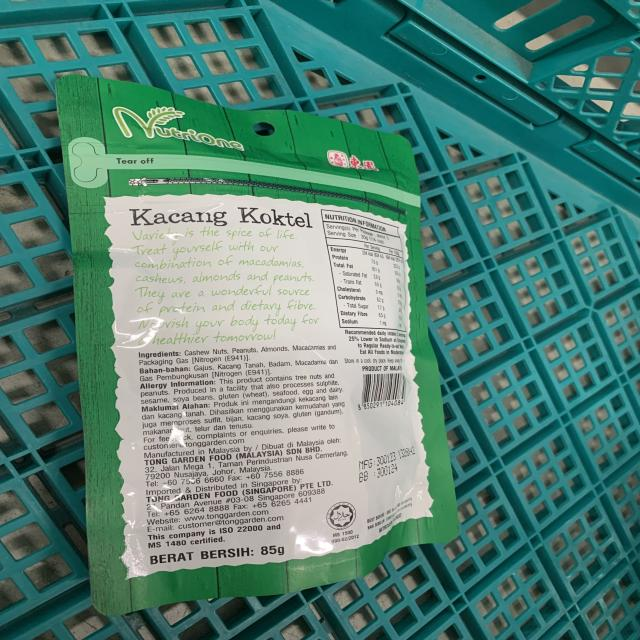object_name: (68, 88, 447, 575)
